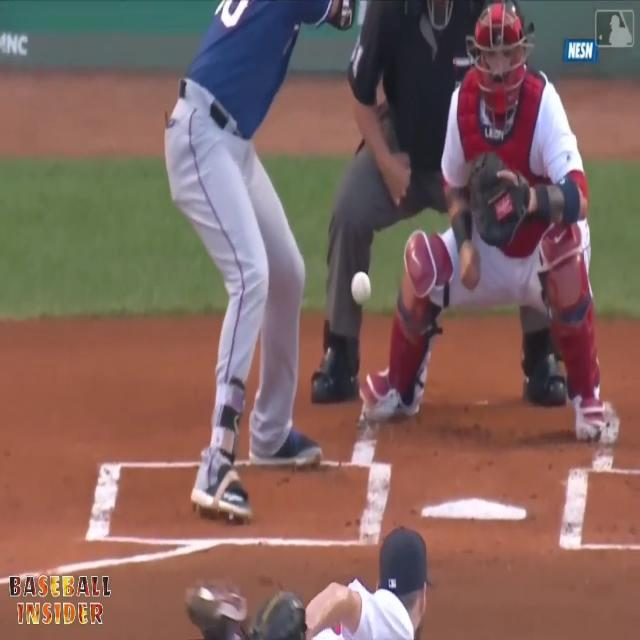baseball: (350, 270, 372, 305)
